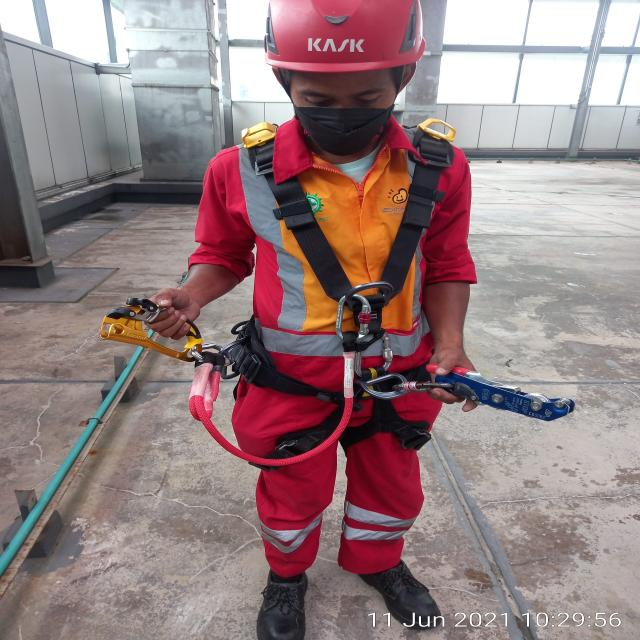shoes: (354, 552, 442, 630), (252, 569, 322, 640)
